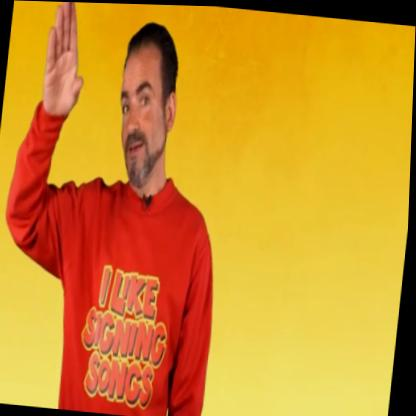Hello: (16, 1, 193, 232)
